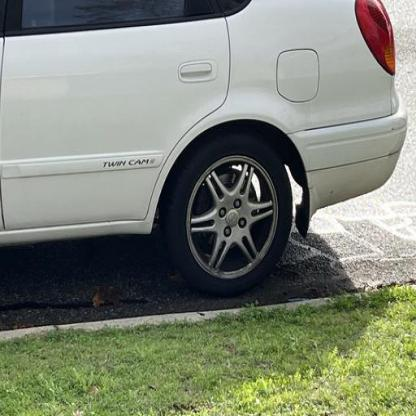Tire: (162, 130, 292, 296)
